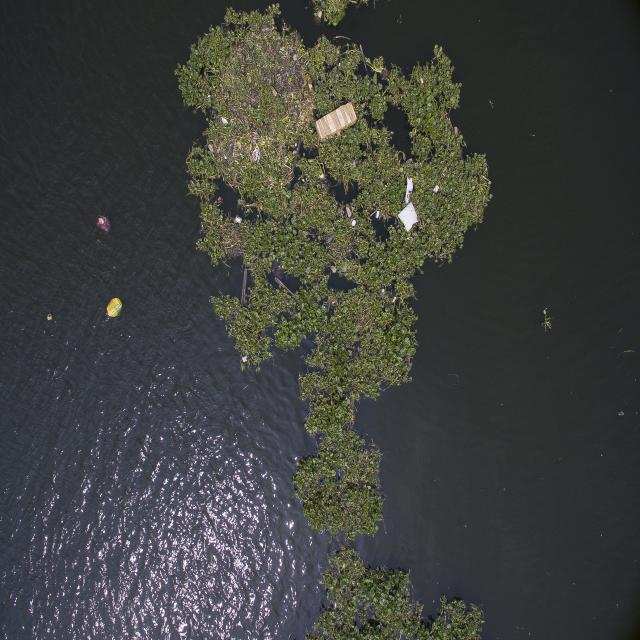Plastic: (316, 102, 357, 140), (396, 202, 420, 232), (96, 211, 112, 235), (108, 294, 122, 319), (404, 175, 414, 202), (340, 260, 347, 272), (234, 215, 242, 223)
